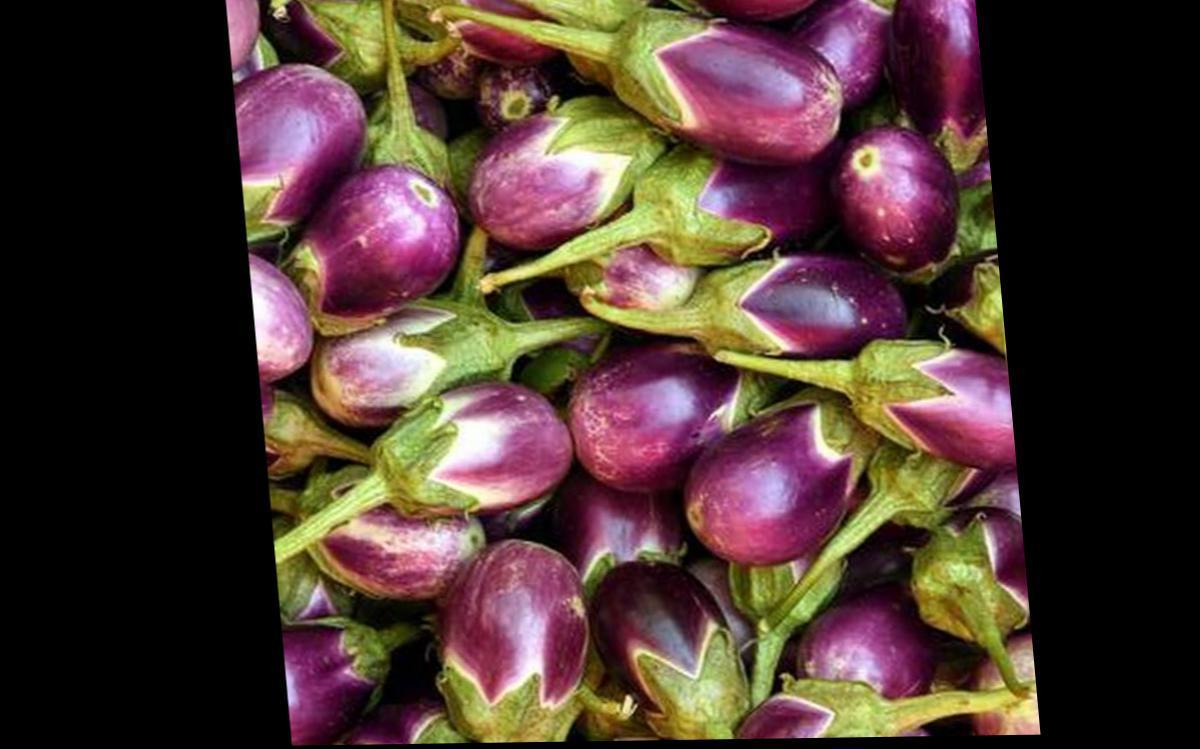eggplant: (227, 0, 1018, 745)
